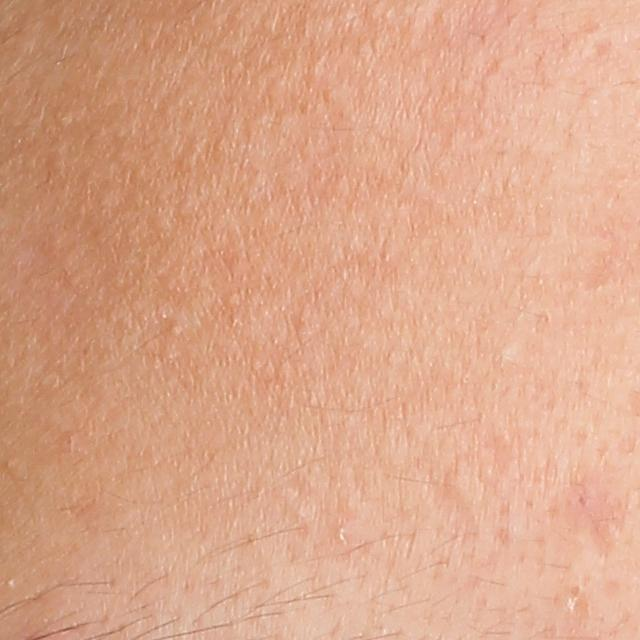comedo: (494, 345, 517, 368), (563, 592, 584, 616), (335, 524, 354, 545), (165, 319, 184, 339)
